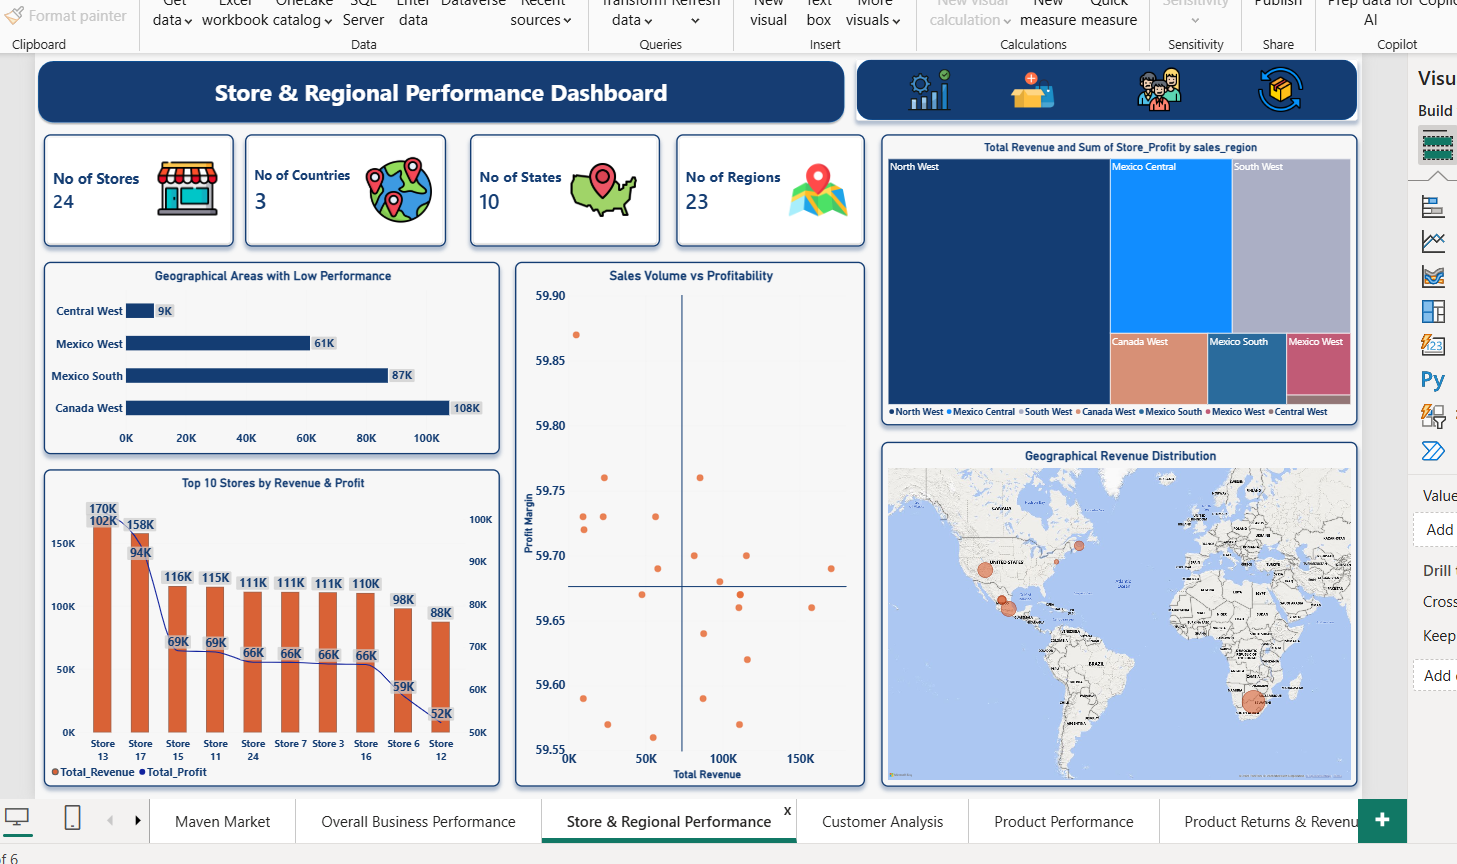

The dashboard page shown, as its layout file describes it:
{"tool":"powerbi","page":{"name":"Store & Regional Performance","canvas":[3840,2160],"ordinal":3},"visuals":[{"type":"shape","box":[0,14.5,2352.6,195.4],"z":0},{"type":"group","id":"g1","title":"Group 1","box":[2377.9,18.1,1451.3,177.3],"z":0,"group":"g5"},{"type":"cardVisual","fields":{"Data":["Sum(Total Store & region.Total_Regions)"]},"box":[1856.7,235.3,546.5,325.7],"z":0,"group":"g3"},{"type":"image","box":[2443,40.3,293.2,133],"z":1000,"group":"g5"},{"type":"image","box":[2182.4,300.4,170.1,191.8],"z":1000,"group":"g3"},{"type":"lineStackedColumnComboChart","title":"Top 10 Stores by Revenue & Profit","fields":{"Category":["C_Query1.store_name"],"Y":["Sum(C_Query1.Total_Revenue)"],"Y2":["Sum(C_Query1.Total_Profit)"]},"box":[25.3,1205.2,1321.1,919.3],"z":1000},{"type":"cardVisual","fields":{"Data":["Sum(Total Store & region.Total_Stores)"]},"box":[25.3,235.3,550.1,325.7],"z":2000,"group":"g6"},{"type":"group","id":"g2","title":"Group 5","box":[25.3,235.3,1784.3,325.7],"z":2000,"group":"g3"},{"type":"map","title":"Geographical Revenue Distribution","fields":{"Category":["C_Query3.sales_region"],"Size":["Sum(C_Query3.total_revenue)"]},"box":[2450.3,1125.6,1379,998.9],"z":2000},{"type":"cardVisual","fields":{"Data":["Sum(No of Country.Total_Countries)"]},"box":[608,235.3,582.7,325.7],"z":3000,"group":"g7"},{"type":"treemap","title":"Total Revenue and Sum of Store_Profit by sales_region","fields":{"Group":["C_Query4.sales_region","C_Query4.store_name"],"Values":["Sum(C_Query4.Store_Revenue)"]},"box":[2450.3,235.3,1379,843.3],"z":3000},{"type":"cardVisual","fields":{"Data":["Sum(No of State.Total_States)"]},"box":[1259.5,235.3,550.1,325.7],"z":4000,"group":"g2"},{"type":"scatterChart","title":"Sales Volume vs Profitability","fields":{"Category":["High Sales but Weak Profitability.store_name"],"X":["Sum(High Sales but Weak Profitability.Total_Revenue)"],"Y":["Sum(High Sales but Weak Profitability.Profit_Margin_Pct)"]},"box":[1389.8,604.4,1013.4,1520.1],"z":4000},{"type":"clusteredBarChart","title":"Geographical Areas with Low Performance","fields":{"Category":["C_Query6.sales_region"],"Y":["Sum(C_Query6.Total_Revenue)"]},"box":[25.3,604.4,1321.1,557.4],"z":5000},{"type":"group","id":"g3","title":"Group 6","box":[25.3,235.3,2377.9,325.7],"z":6000},{"type":"group","id":"g4","title":"Group 7","box":[2377.9,18.1,1451.3,177.3],"z":7000},{"type":"group","id":"g5","title":"Group 2","box":[2377.9,18.1,1451.3,177.3],"z":10000,"group":"g4"},{"type":"image","box":[2736.2,39.8,304,133.9],"z":11000,"group":"g4"},{"type":"image","box":[353.4,298.5,173.7,191.8],"z":12000,"group":"g6"},{"type":"image","box":[930.1,300.4,246.1,191.8],"z":13000,"group":"g7"},{"type":"image","box":[1534.6,300.4,224.4,191.8],"z":14000,"group":"g2"},{"type":"group","id":"g6","title":"Group 3","box":[25.3,235.3,550.1,325.7],"z":15001,"group":"g7"},{"type":"group","id":"g7","title":"Group 4","box":[25.3,235.3,1165.4,325.7],"z":15002,"group":"g2"},{"type":"shape","box":[2377.9,18.1,1451.3,177.3],"z":19000,"group":"g1"},{"type":"image","box":[3105.4,41.1,300.4,131.4],"z":22000,"group":"g1"},{"type":"image","box":[3489,41.1,235.3,131.4],"z":23000,"group":"g1"}]}

Visuals, with their boxes on the page's 3840x2160 design canvas (x1, y1, x2, y2). These are canvas units, not pixel positions in the 1457x864 screenshot, which may show the page scaled, cropped or inside an application window:
shape: [left=0, top=14, right=2353, bottom=210]
"Group 1" group: [left=2378, top=18, right=3829, bottom=195]
cardVisual - Sum(Total Store & region.Total_Regions): [left=1857, top=235, right=2403, bottom=561]
image: [left=2443, top=40, right=2736, bottom=173]
image: [left=2182, top=300, right=2352, bottom=492]
"Top 10 Stores by Revenue & Profit" lineStackedColumnComboChart: [left=25, top=1205, right=1346, bottom=2124]
cardVisual - Sum(Total Store & region.Total_Stores): [left=25, top=235, right=575, bottom=561]
"Group 5" group: [left=25, top=235, right=1810, bottom=561]
"Geographical Revenue Distribution" map: [left=2450, top=1126, right=3829, bottom=2124]
cardVisual - Sum(No of Country.Total_Countries): [left=608, top=235, right=1191, bottom=561]
"Total Revenue and Sum of Store_Profit by sales_region" treemap: [left=2450, top=235, right=3829, bottom=1079]
cardVisual - Sum(No of State.Total_States): [left=1260, top=235, right=1810, bottom=561]
"Sales Volume vs Profitability" scatterChart: [left=1390, top=604, right=2403, bottom=2124]
"Geographical Areas with Low Performance" clusteredBarChart: [left=25, top=604, right=1346, bottom=1162]
"Group 6" group: [left=25, top=235, right=2403, bottom=561]
"Group 7" group: [left=2378, top=18, right=3829, bottom=195]
"Group 2" group: [left=2378, top=18, right=3829, bottom=195]
image: [left=2736, top=40, right=3040, bottom=174]
image: [left=353, top=298, right=527, bottom=490]
image: [left=930, top=300, right=1176, bottom=492]
image: [left=1535, top=300, right=1759, bottom=492]
"Group 3" group: [left=25, top=235, right=575, bottom=561]
"Group 4" group: [left=25, top=235, right=1191, bottom=561]
shape: [left=2378, top=18, right=3829, bottom=195]
image: [left=3105, top=41, right=3406, bottom=172]
image: [left=3489, top=41, right=3724, bottom=172]
